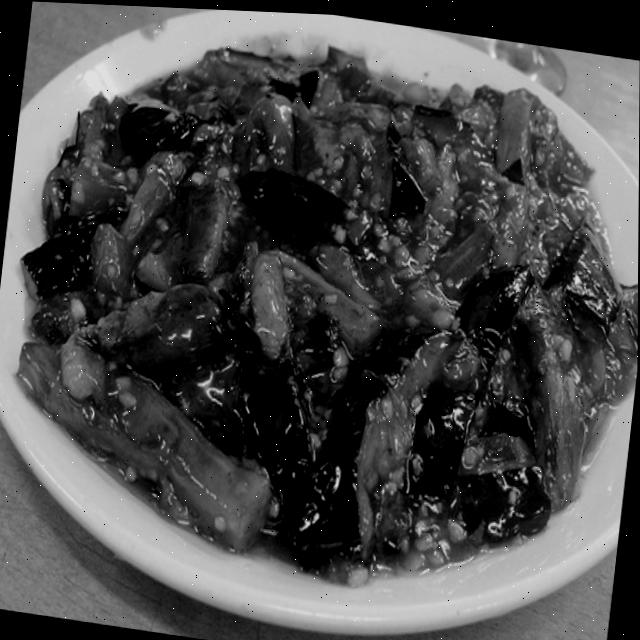鸡蛋料理: (0, 0, 640, 633)
